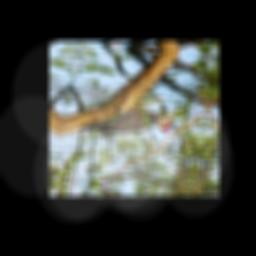Woodpecker: (77, 95, 181, 145)
